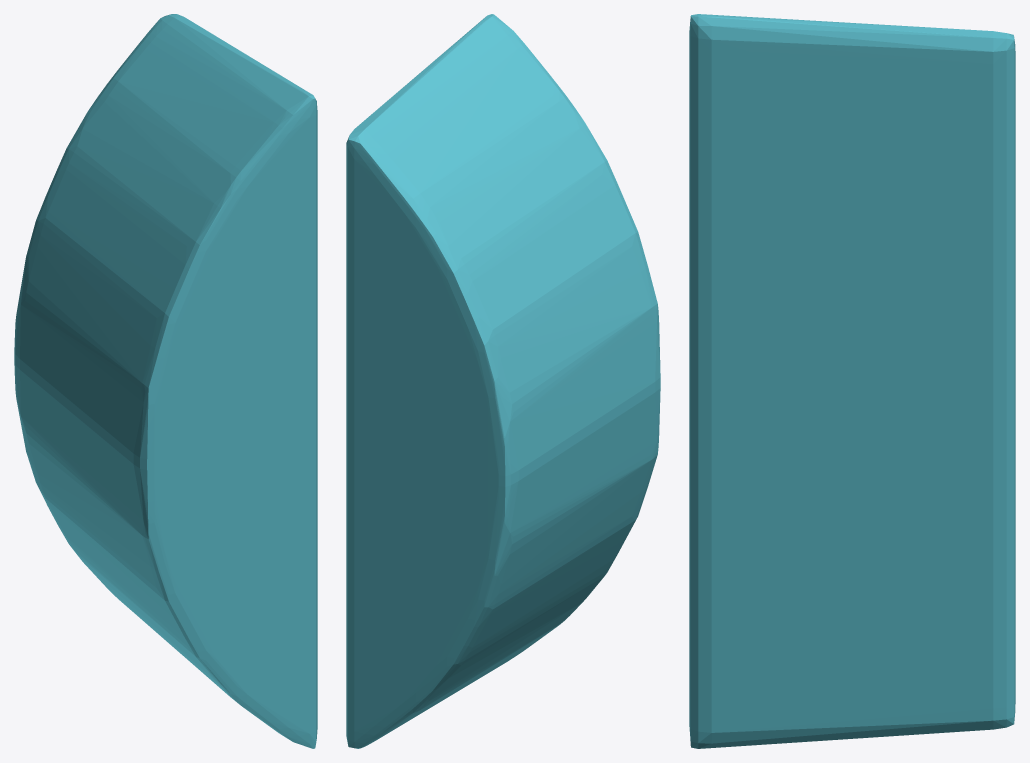
Rendered from left_forearm_collision_part_2.obj.
3 renders of one model, left to right at view 1: azimuth 30°, elevation 25°; view 2: azimuth 150°, elevation 25°; view 3: azimuth 270°, elevation 25°, orthographic. The views are drawn at different scales.
Size of the model in its own units: 34.41 by 119 by 47.87.
